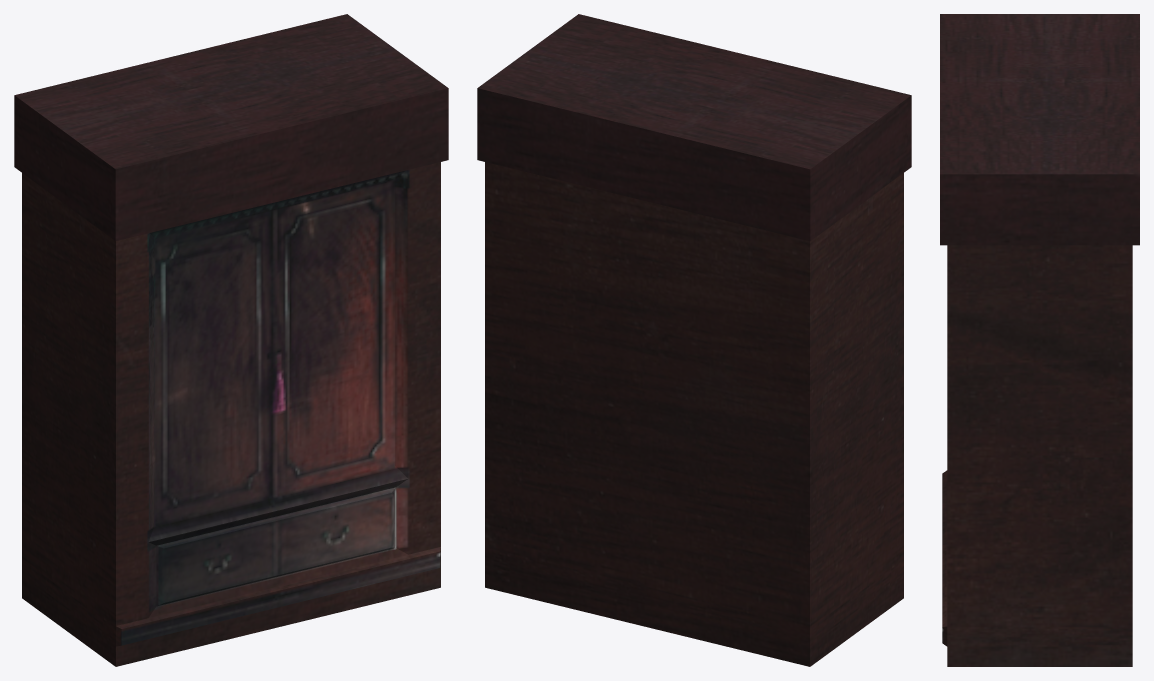
File: closet.fbx
3 views of the same model, side by side, from view 1: azimuth 30°, elevation 25°; view 2: azimuth 150°, elevation 25°; view 3: azimuth 270°, elevation 25° (orthographic).
Visible parts, largest first — view 1: closetMesh; view 2: closetMesh; view 3: closetMesh.
Boxes of the visible parts, box(x1,y1,x2,y2) form: closetMesh: box(14, 14, 448, 666); closetMesh: box(477, 14, 911, 666); closetMesh: box(940, 14, 1139, 666).
Size of the model in its own units: 123 by 177 by 64.76.
